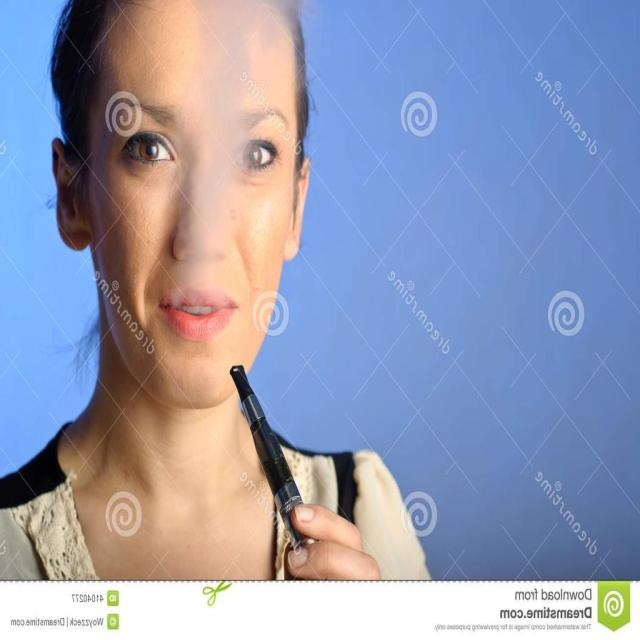smoking: (39, 4, 346, 562)
